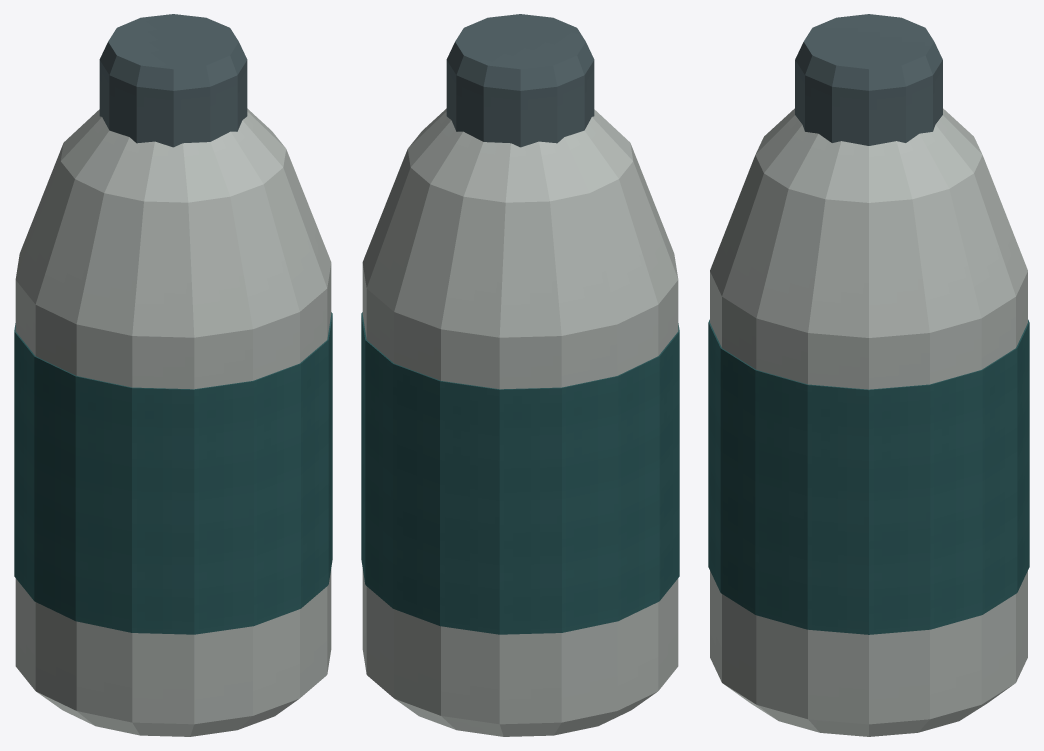
File: AST-HSK-006.glb
3 views of the same model, side by side, from view 1: azimuth 30°, elevation 25°; view 2: azimuth 150°, elevation 25°; view 3: azimuth 270°, elevation 25° (orthographic).
Visible parts, largest first — view 1: AST-HSK-006_staff_white_paint, AST-HSK-006_teal_weave, AST-HSK-006_staff_bluegrey_paint; view 2: AST-HSK-006_staff_white_paint, AST-HSK-006_teal_weave, AST-HSK-006_staff_bluegrey_paint; view 3: AST-HSK-006_staff_white_paint, AST-HSK-006_teal_weave, AST-HSK-006_staff_bluegrey_paint.
Boxes of the visible parts, x1,y1,x2,y2 form: AST-HSK-006_staff_white_paint: [15, 108, 331, 736]; AST-HSK-006_teal_weave: [14, 312, 332, 634]; AST-HSK-006_staff_bluegrey_paint: [99, 14, 247, 147]; AST-HSK-006_staff_white_paint: [362, 108, 678, 736]; AST-HSK-006_teal_weave: [361, 312, 679, 634]; AST-HSK-006_staff_bluegrey_paint: [446, 14, 594, 147]; AST-HSK-006_staff_white_paint: [710, 108, 1027, 736]; AST-HSK-006_teal_weave: [708, 319, 1029, 634]; AST-HSK-006_staff_bluegrey_paint: [795, 14, 942, 145].
Bounding box in the file's own units: 0.113 × 0.249 × 0.113.
Materials: 3 (3 with a texture image).
